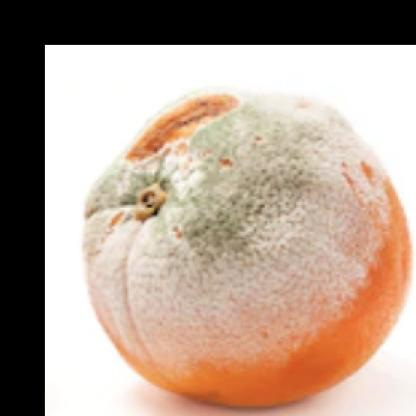rotten: (84, 93, 413, 406)
